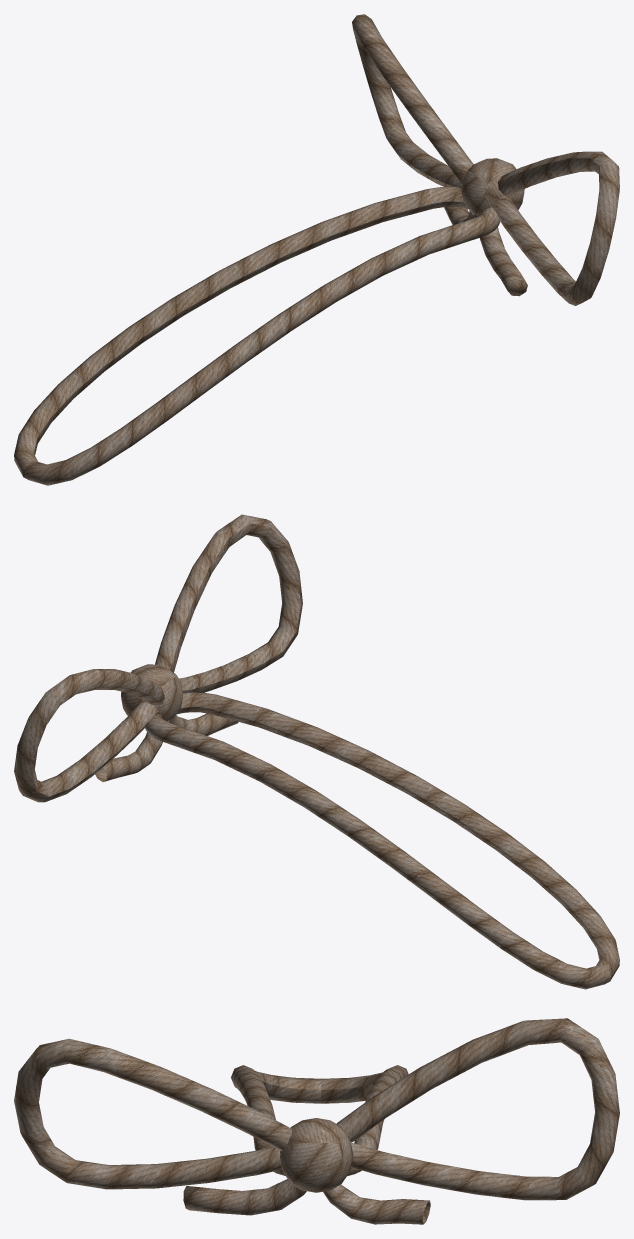
File: Rope.fbx
3 views of the same model, one above another, from view 1: azimuth 30°, elevation 25°; view 2: azimuth 150°, elevation 25°; view 3: azimuth 270°, elevation 25° (orthographic). The views are drawn at different scales.
Parts seen in each view (by area): view 1: BézierCurve, BézierCurve_003, BézierCurve_006, Cube.005, BézierCurve_005; view 2: BézierCurve, BézierCurve_003, BézierCurve_006, Cube.005, BézierCurve_004, BézierCurve_005; view 3: BézierCurve_006, BézierCurve_003, BézierCurve, Cube.005, BézierCurve_005, BézierCurve_004.
Boxes of the visible parts, x1=… form: BézierCurve: x1=14, y1=186, x2=500, y2=485; BézierCurve_003: x1=492, y1=151, x2=619, y2=305; BézierCurve_006: x1=352, y1=14, x2=473, y2=188; Cube.005: x1=461, y1=158, x2=524, y2=216; BézierCurve_005: x1=474, y1=214, x2=527, y2=296; BézierCurve: x1=145, y1=692, x2=619, y2=989; BézierCurve_003: x1=155, y1=514, x2=302, y2=692; BézierCurve_006: x1=14, y1=669, x2=164, y2=802; Cube.005: x1=121, y1=664, x2=182, y2=721; BézierCurve_004: x1=95, y1=720, x2=170, y2=781; BézierCurve_005: x1=170, y1=713, x2=238, y2=735; BézierCurve_006: x1=336, y1=1018, x2=619, y2=1200; BézierCurve_003: x1=14, y1=1038, x2=291, y2=1189; BézierCurve: x1=231, y1=1065, x2=408, y2=1176; Cube.005: x1=280, y1=1118, x2=353, y2=1192; BézierCurve_005: x1=183, y1=1179, x2=306, y2=1215; BézierCurve_004: x1=323, y1=1184, x2=430, y2=1224.
Size of the model in its own units: 11.69 by 6.36 by 10.5.
